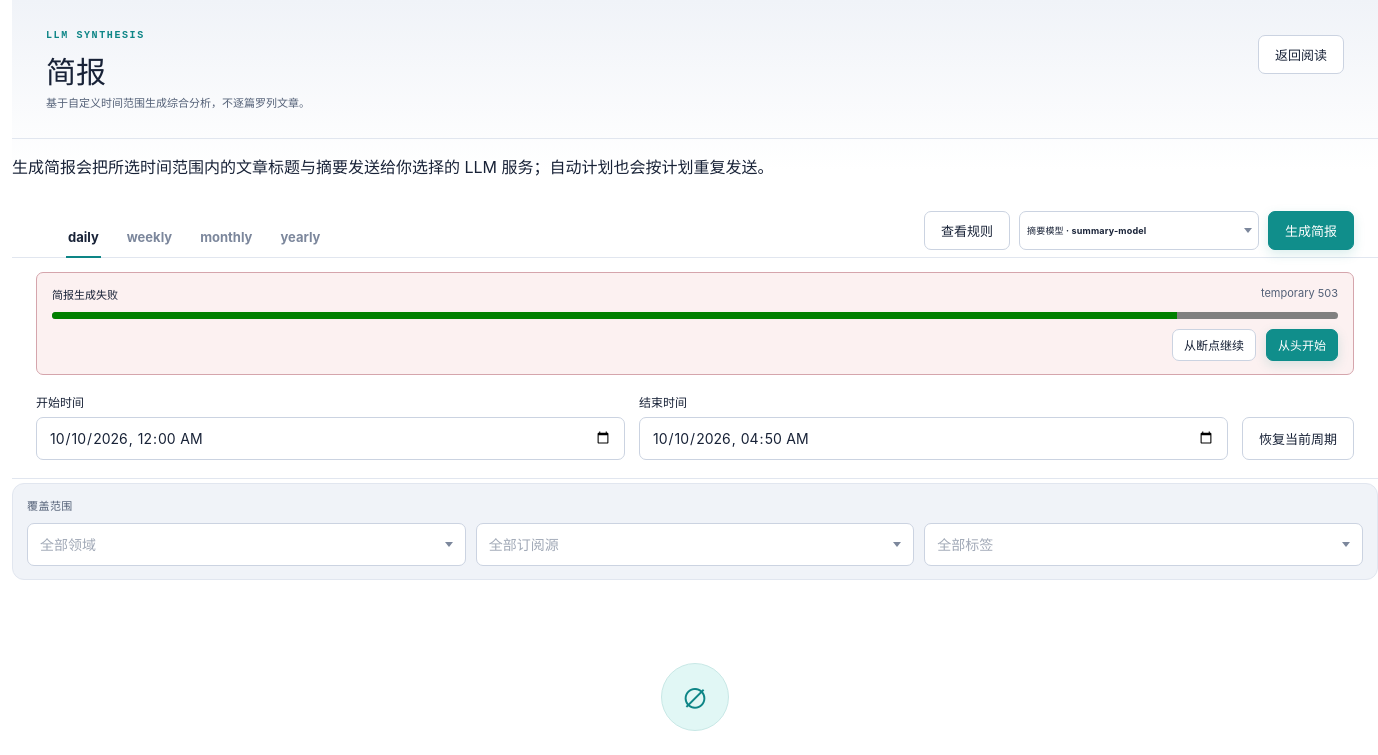
Test: BriefWorkspace › restores a failed task after reopening and retries from its checkpoint
The width and height of the screenshot is (1378, 755).
Click the button "从断点继续" at (1214, 345), box left=1172, top=329, right=1256, bottom=361
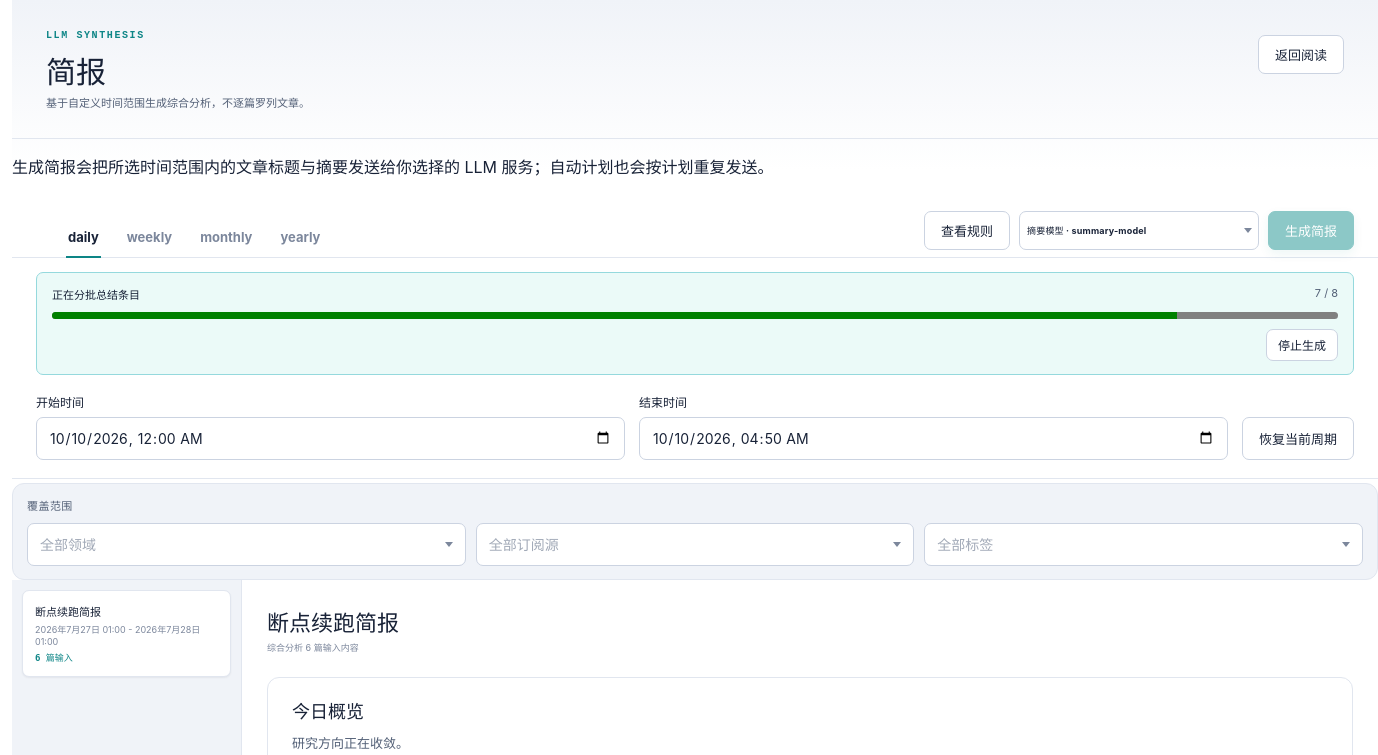
Expected: the heading "断点续跑简报" is shown, left=267, top=605, right=399, bottom=637
